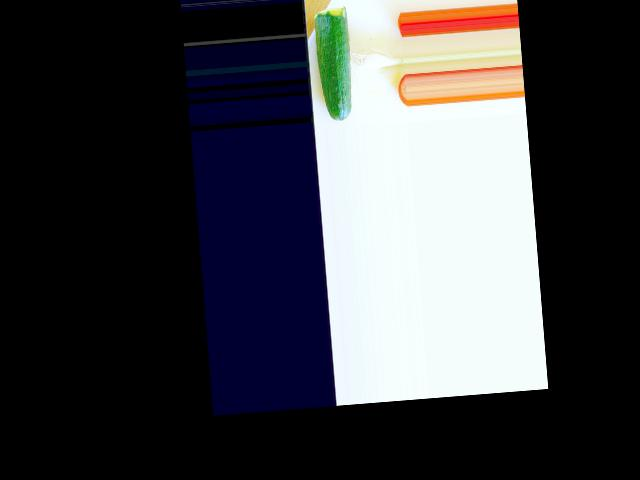cucumber: (312, 6, 354, 123)
